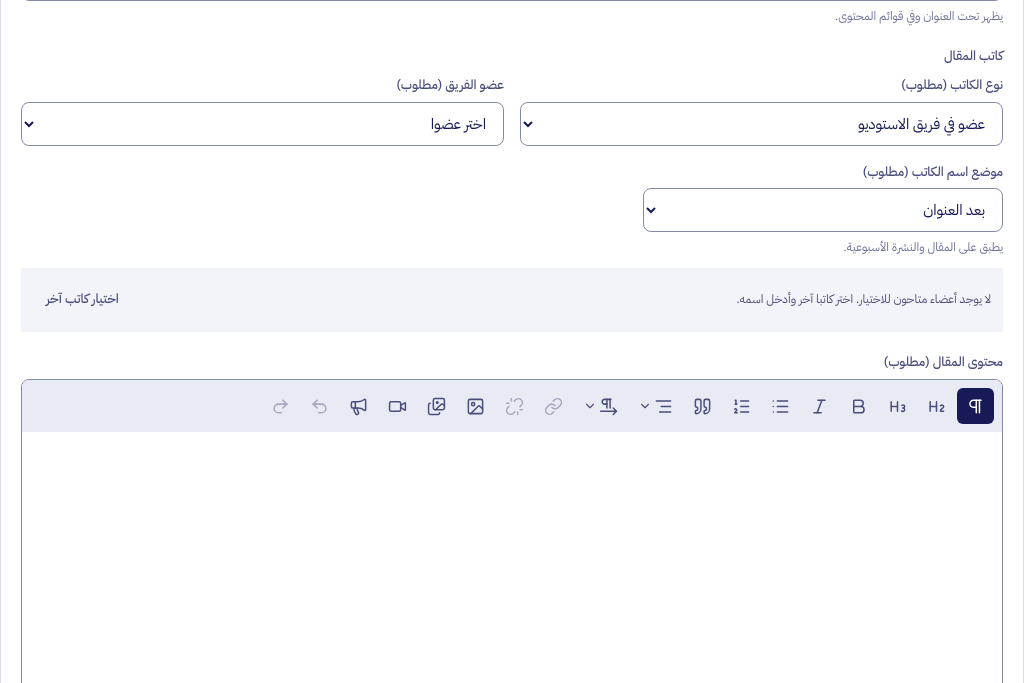
Test: ArticleEditorView › offers a direct custom-author path when the Studio author directory is empty
(page scrolled)
Step 1. Click the button "اختيار كاتب آخر" → (82, 300), box [33,278,132,322]
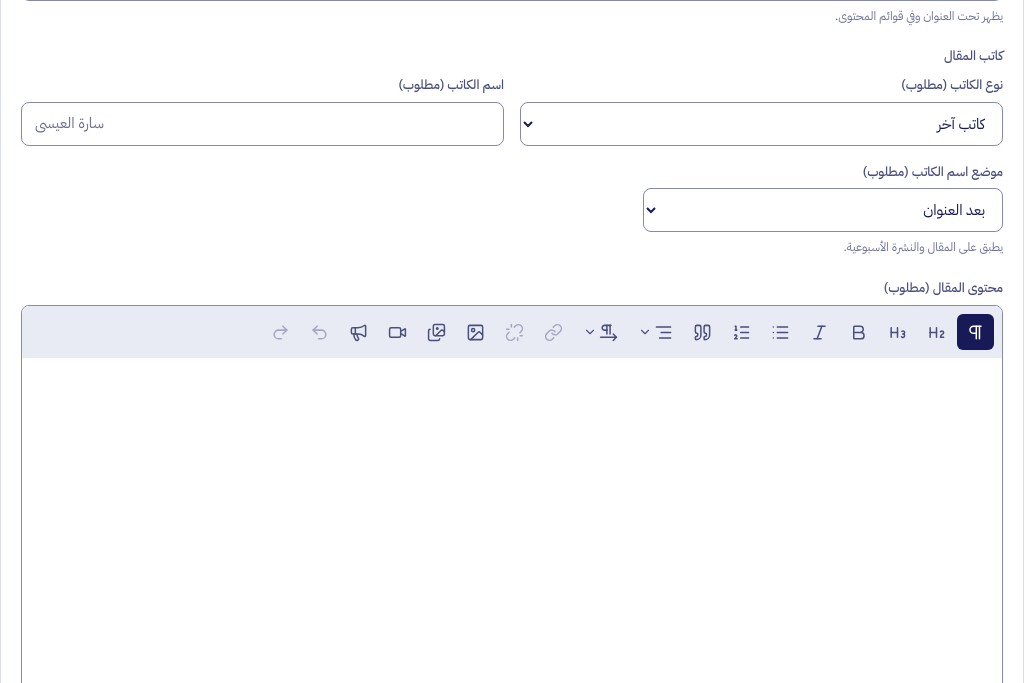
Now the dropdown labelled "نوع الكاتب (مطلوب)" shows "كاتب آخر", box [520,102,1003,146]
Now the field labelled "اسم الكاتب (مطلوب)" is enabled, box [21,102,504,146]
